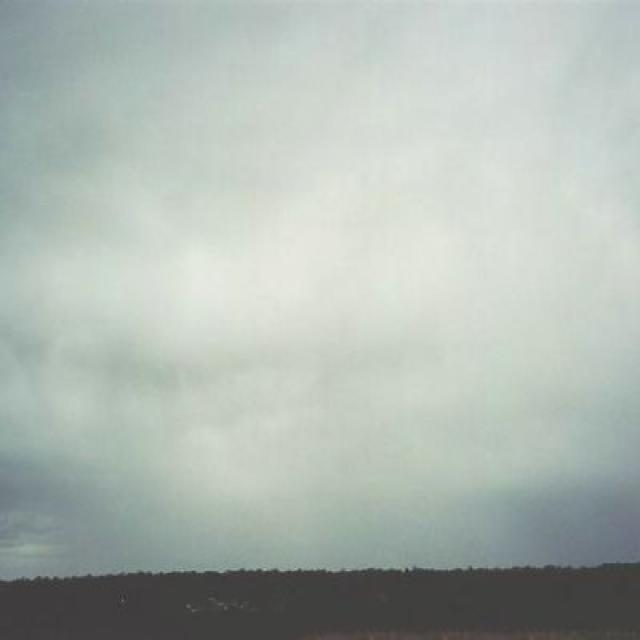Ns: (1, 15, 640, 525)
